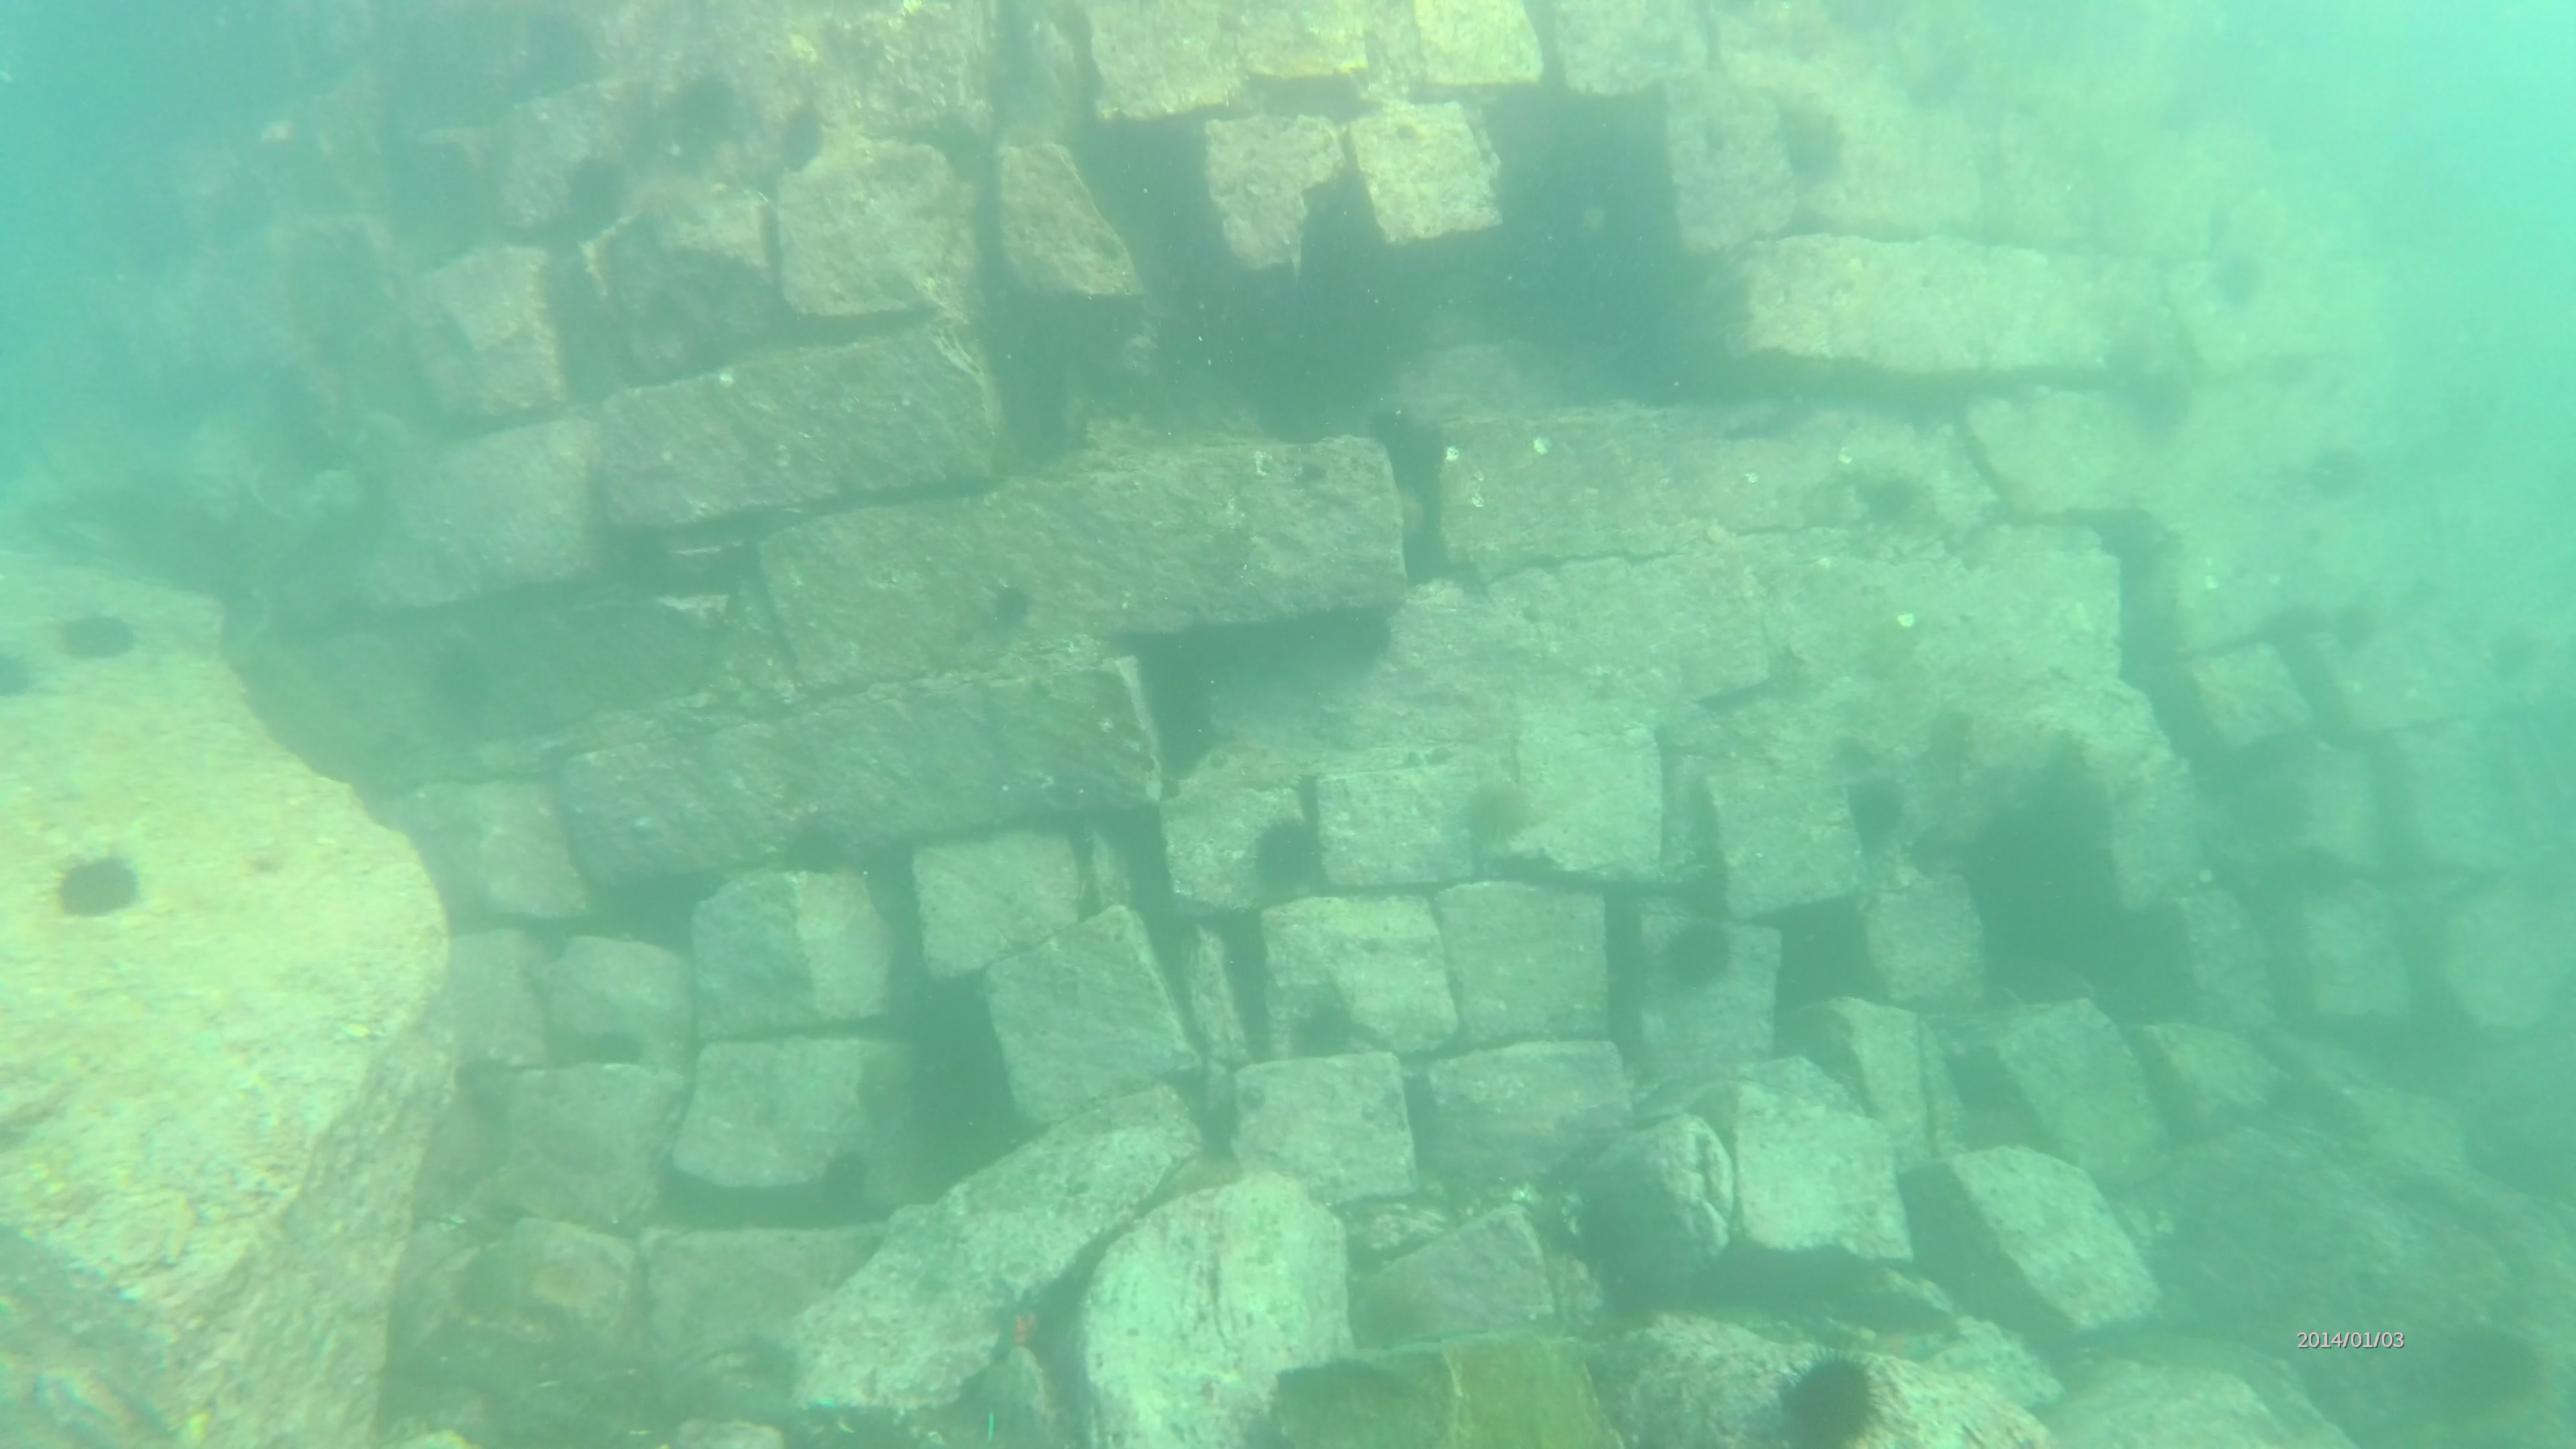echinus: (1767, 1345, 1909, 1449), (561, 156, 644, 244), (55, 840, 145, 922), (662, 62, 741, 152), (1253, 810, 1330, 899), (1658, 913, 1736, 996), (448, 1051, 534, 1123), (2127, 352, 2197, 439), (1870, 456, 1948, 534), (1350, 398, 1430, 472), (2307, 426, 2376, 511), (428, 626, 504, 702), (2279, 840, 2358, 913), (1782, 110, 1851, 193), (1467, 778, 1541, 855), (1845, 770, 1914, 851), (775, 823, 847, 897), (2479, 610, 2551, 683), (60, 603, 145, 663), (2212, 241, 2277, 318), (764, 101, 826, 182), (812, 1141, 872, 1219), (2323, 596, 2383, 667), (1299, 991, 1355, 1063), (580, 1024, 655, 1072), (991, 586, 1044, 637), (0, 639, 35, 706)
